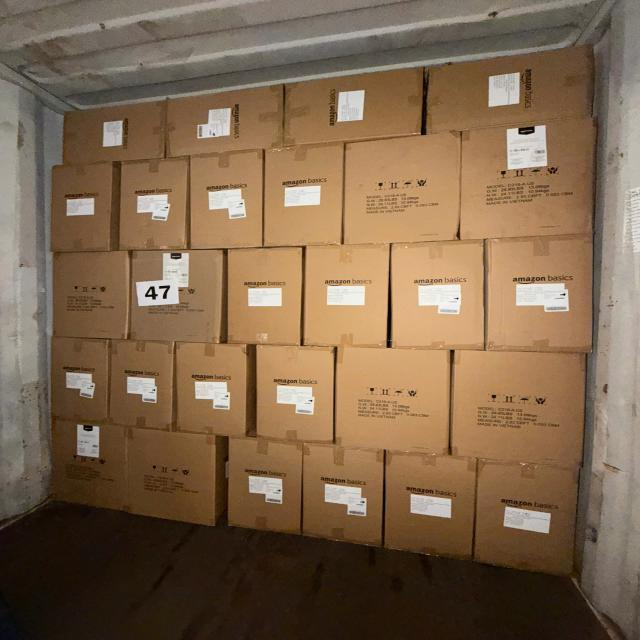Carton: (450, 351, 587, 467), (465, 119, 601, 235), (426, 45, 601, 134), (487, 235, 598, 354), (340, 137, 460, 247), (332, 343, 448, 452), (473, 459, 579, 578), (288, 68, 426, 148), (390, 238, 484, 350), (384, 450, 476, 561), (126, 424, 219, 526), (133, 248, 228, 342), (300, 444, 384, 550), (305, 242, 389, 347), (173, 84, 289, 160), (263, 143, 344, 247), (252, 342, 333, 442), (47, 418, 129, 514), (227, 437, 303, 537), (60, 97, 169, 166), (227, 247, 303, 345), (190, 154, 265, 251), (177, 341, 252, 436), (50, 250, 128, 340), (118, 161, 187, 251), (110, 340, 176, 430), (50, 166, 116, 254), (51, 336, 110, 422)
